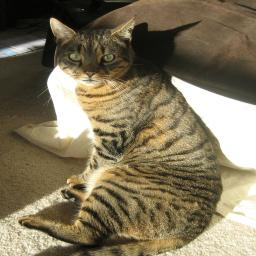catnose: (83, 70, 98, 78)
